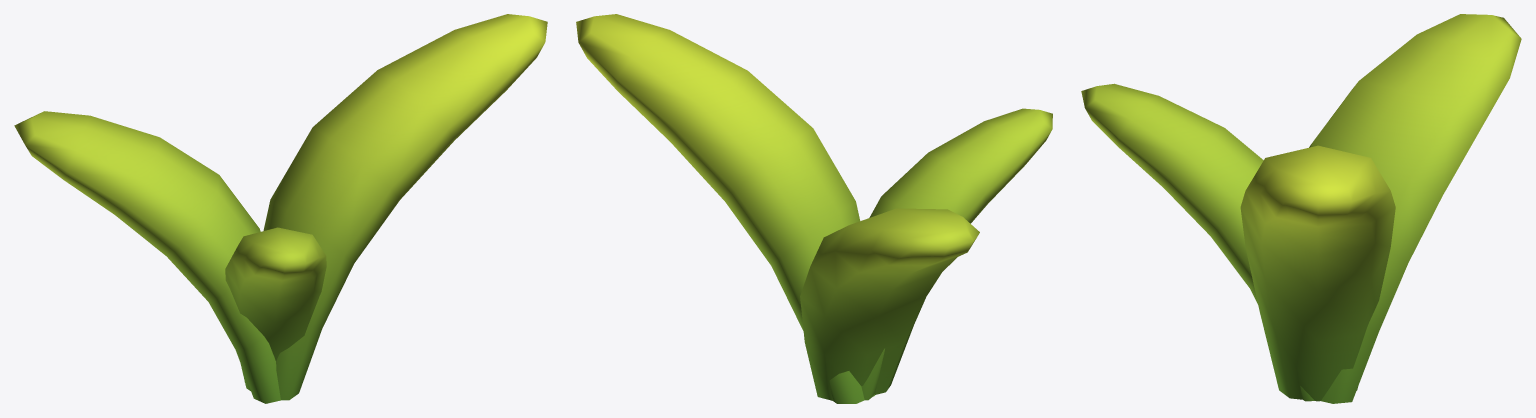
Rendered from Grass.fbx.
3 renders of one model, left to right at view 1: azimuth 30°, elevation 25°; view 2: azimuth 150°, elevation 25°; view 3: azimuth 270°, elevation 25°, orthographic. The views are drawn at different scales.
Visible parts, largest first — view 1: Grass; view 2: Grass; view 3: Grass.
Part boxes in pixels (box(x1,y1,x2,y2)): Grass: box(14, 14, 547, 403); Grass: box(576, 14, 1052, 403); Grass: box(1081, 14, 1521, 403).
Bounding box in the file's own units: 0.4145 × 0.2666 × 0.3056.
1 material, 1 textured.
